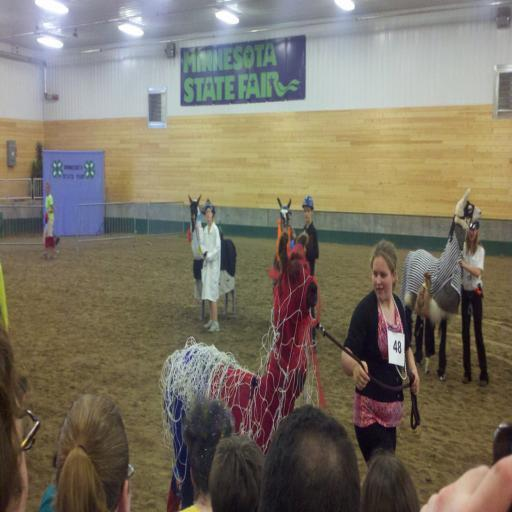horse: (164, 230, 319, 512), (401, 190, 483, 381), (188, 196, 238, 322), (271, 196, 299, 296)
